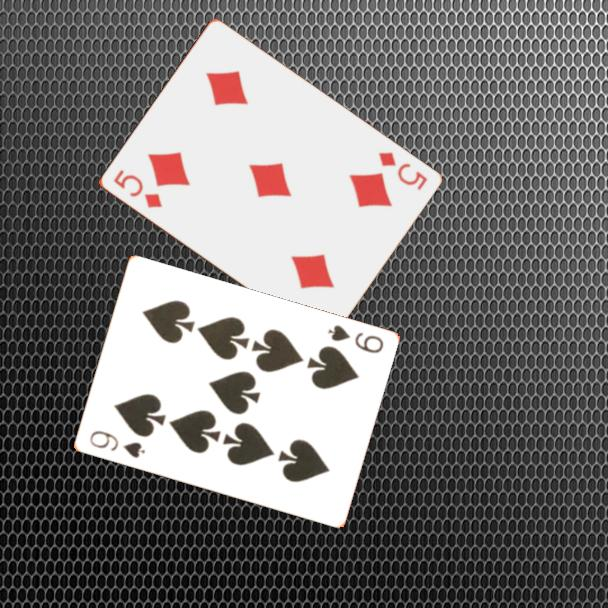d05: (374, 148, 430, 194), (110, 166, 165, 211)
s09: (324, 321, 386, 356), (86, 427, 147, 461)
